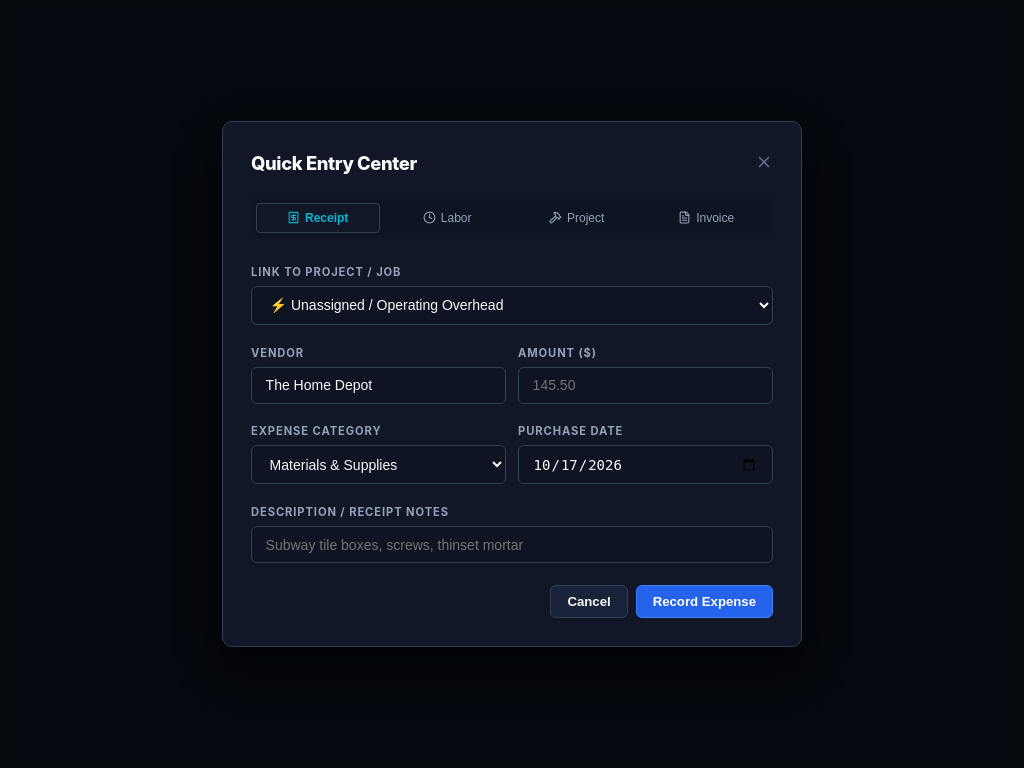
Test: QuickAddModal › recording a receipt › shows what the server said was wrong, next to the field, and stays open
Type "about a hundred" into the field labelled "Amount ($)".
click(646, 385); type("about a hundred")  # box [518,366,773,404]
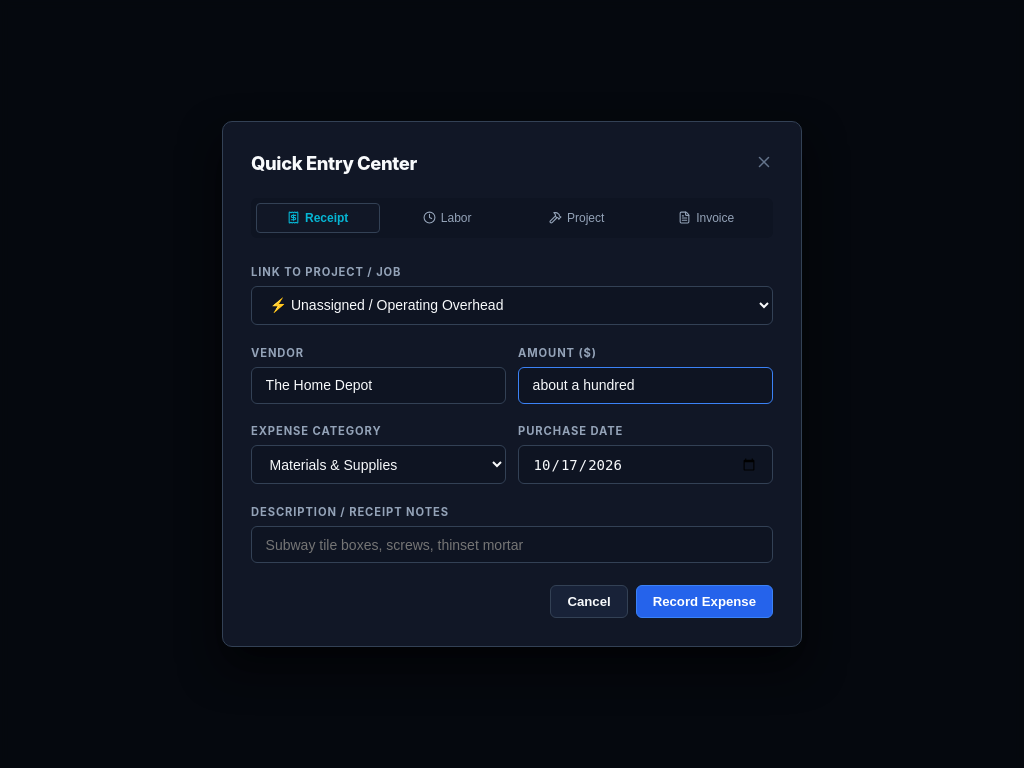
Click the button "Record Expense".
click(704, 601)  # box [636,585,773,618]
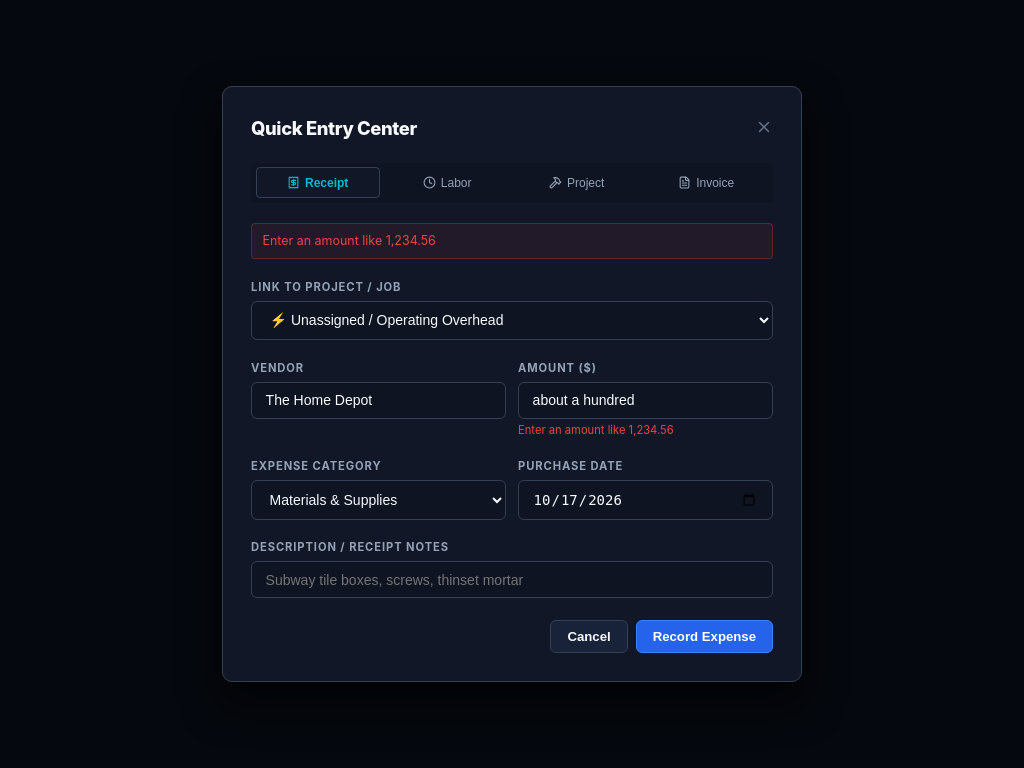
Expected: the 1st message "Enter an amount like 1,234.56" is shown, [251,223,773,259]
